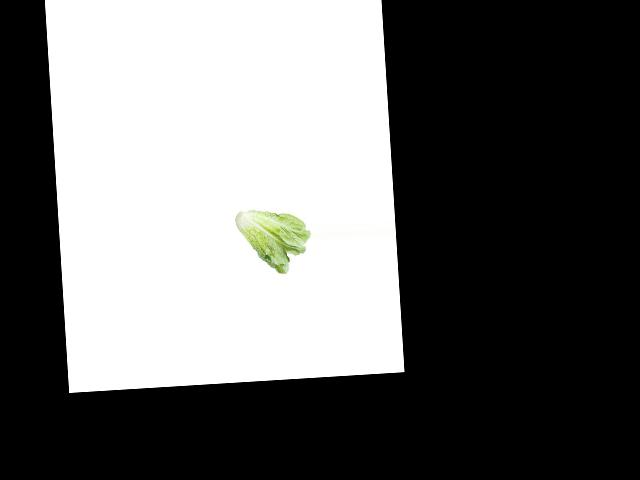lettuce: (235, 203, 314, 279)
